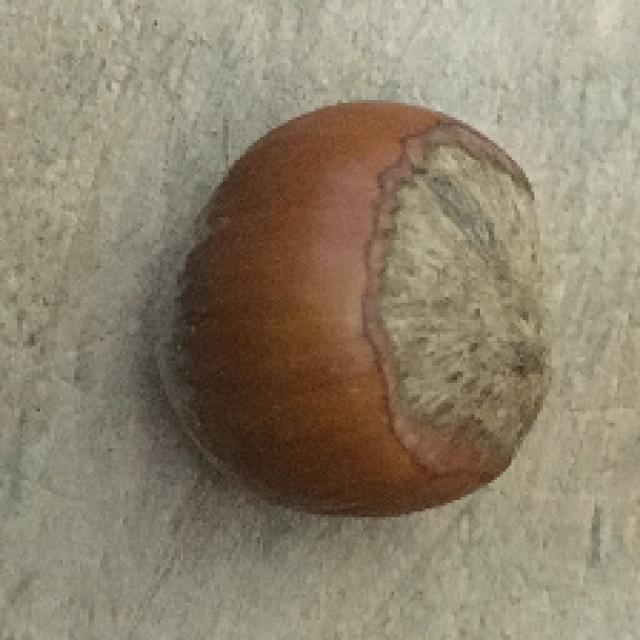qualityHazelnut: (154, 102, 552, 519)
